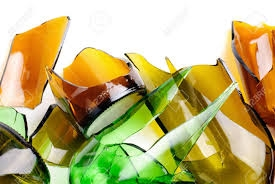glass: (131, 49, 272, 184), (45, 46, 144, 134), (3, 15, 68, 111), (224, 16, 275, 132), (29, 102, 88, 169), (1, 118, 53, 184)
